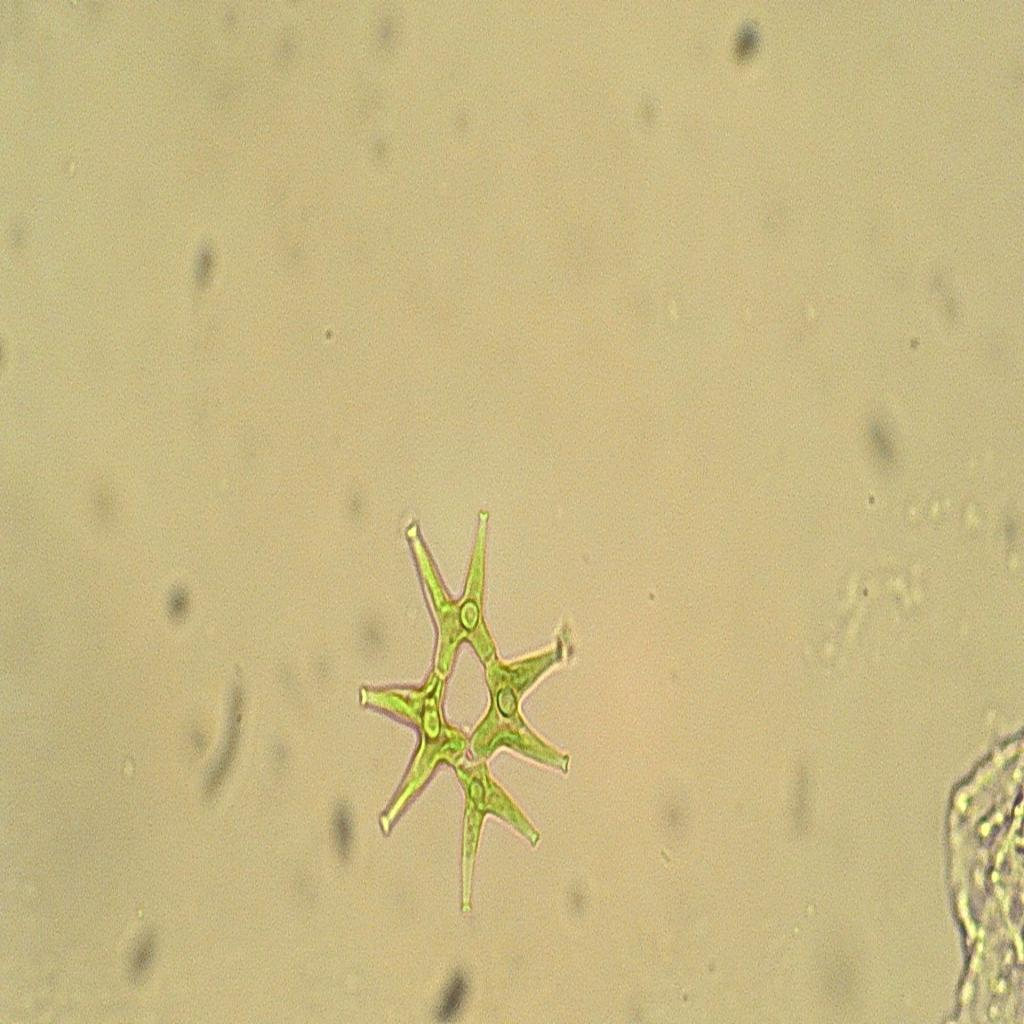Pediastrum_75FI: (353, 480, 582, 938)
